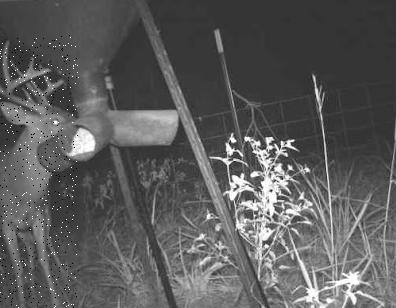Deer: (0, 35, 79, 308)
